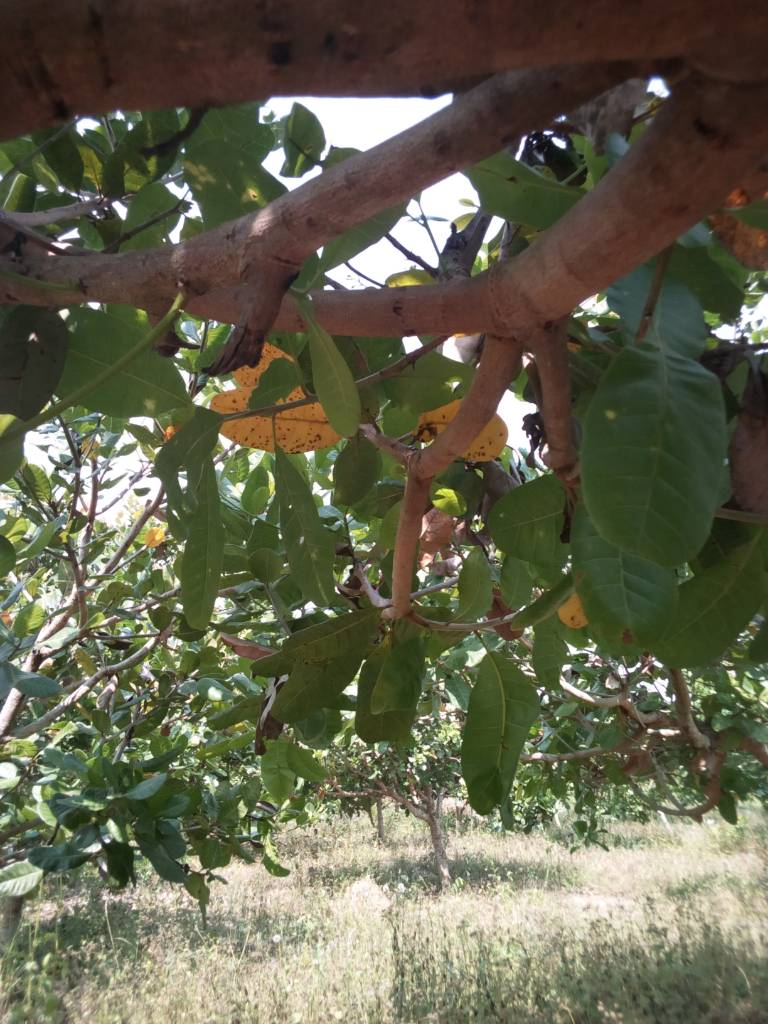Anthracnose: (208, 347, 341, 452)
